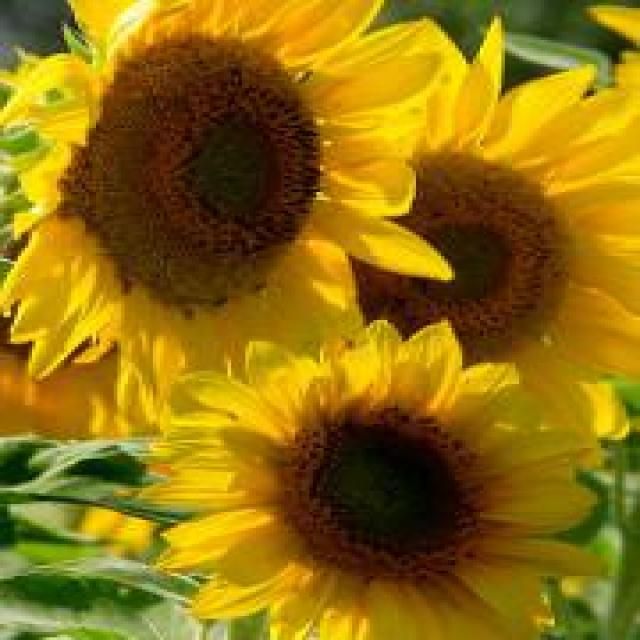sunflower: (0, 0, 455, 416), (291, 17, 640, 438), (169, 321, 610, 631), (0, 305, 169, 438)
